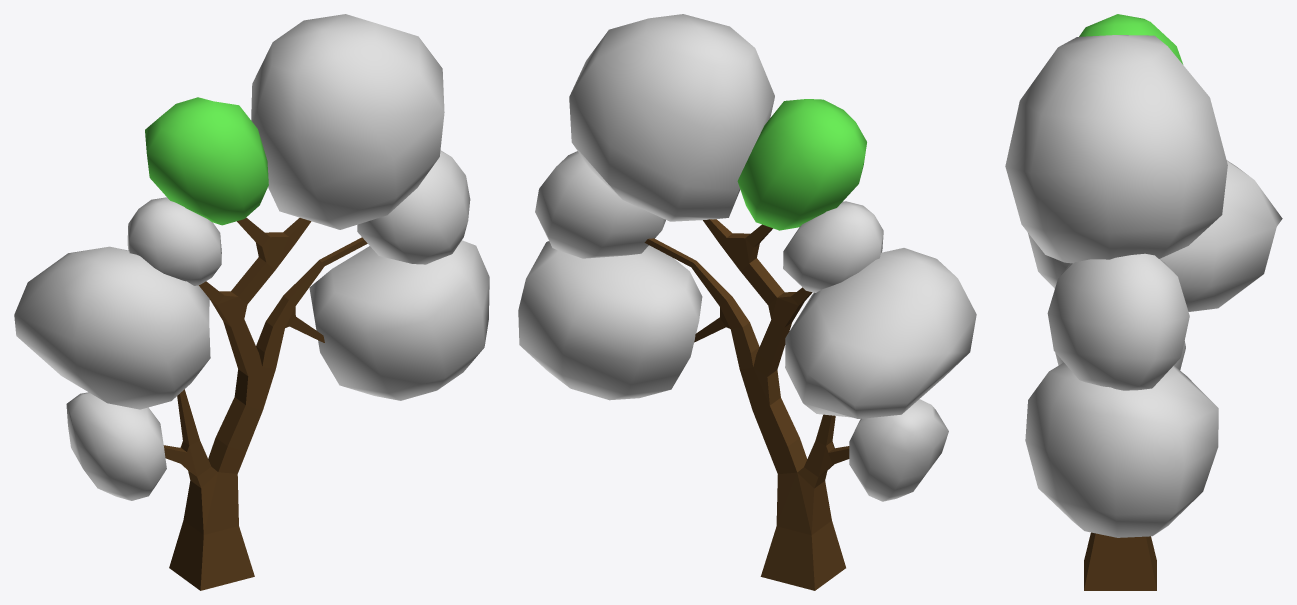
Rendered from Three1.fbx.
The picture shows the model from 3 angles, left to right: view 1: azimuth 30°, elevation 25°; view 2: azimuth 150°, elevation 25°; view 3: azimuth 270°, elevation 25°; orthographic projection. The views are drawn at different scales.
Parts seen in each view (by area): view 1: Three_10, Three_13, Three_12, Three_15, Three_8, Three_14, Three_11, Three_9; view 2: Three_10, Three_13, Three_12, Three_15, Three_8, Three_11, Three_14, Three_9; view 3: Three_10, Three_12, Three_11, Three_13, Three_15, Three_8.
Part boxes in pixels (x1,y1,x2,y2): Three_10: (251, 14, 444, 229); Three_13: (14, 246, 210, 409); Three_12: (309, 240, 489, 400); Three_15: (163, 217, 367, 590); Three_8: (145, 97, 268, 225); Three_14: (66, 392, 166, 500); Three_11: (357, 150, 470, 264); Three_9: (127, 197, 221, 285); Three_10: (569, 14, 774, 221); Three_13: (785, 248, 976, 418); Three_12: (518, 241, 702, 400); Three_15: (644, 219, 849, 590); Three_8: (737, 99, 866, 230); Three_11: (535, 151, 665, 258); Three_14: (849, 399, 948, 501); Three_9: (783, 201, 883, 292); Three_10: (1005, 35, 1227, 263); Three_12: (1025, 362, 1218, 537); Three_11: (1047, 253, 1189, 390); Three_13: (1027, 160, 1282, 311); Three_15: (1084, 532, 1156, 590); Three_8: (1079, 14, 1183, 64).
Bounding box in the file's own units: 9.11 × 4.21 × 10.09.
